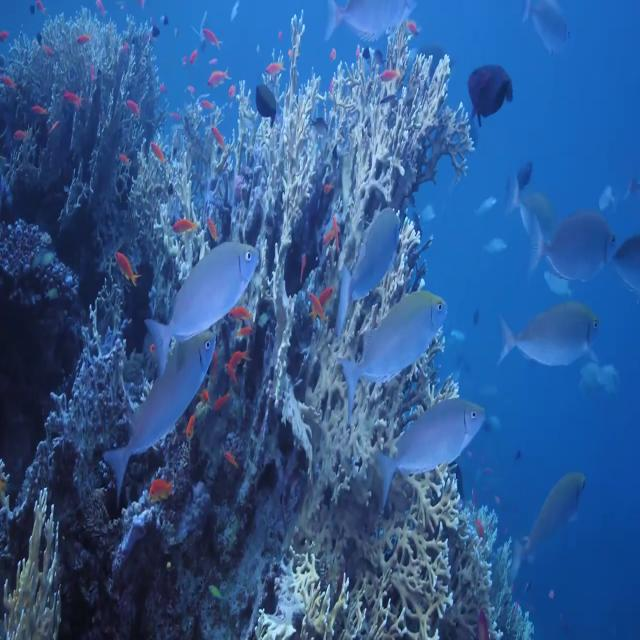fish: (94, 332, 225, 505), (142, 233, 265, 377), (336, 283, 455, 431), (365, 397, 492, 521), (498, 462, 596, 566), (489, 301, 608, 381), (340, 190, 402, 342), (529, 205, 619, 289), (517, 0, 581, 63), (463, 52, 518, 121), (607, 221, 640, 300), (114, 234, 140, 298), (255, 77, 281, 134), (168, 199, 200, 242), (208, 108, 230, 164), (144, 466, 177, 500), (310, 272, 329, 322), (203, 24, 225, 56), (125, 94, 144, 129), (267, 50, 286, 78)
